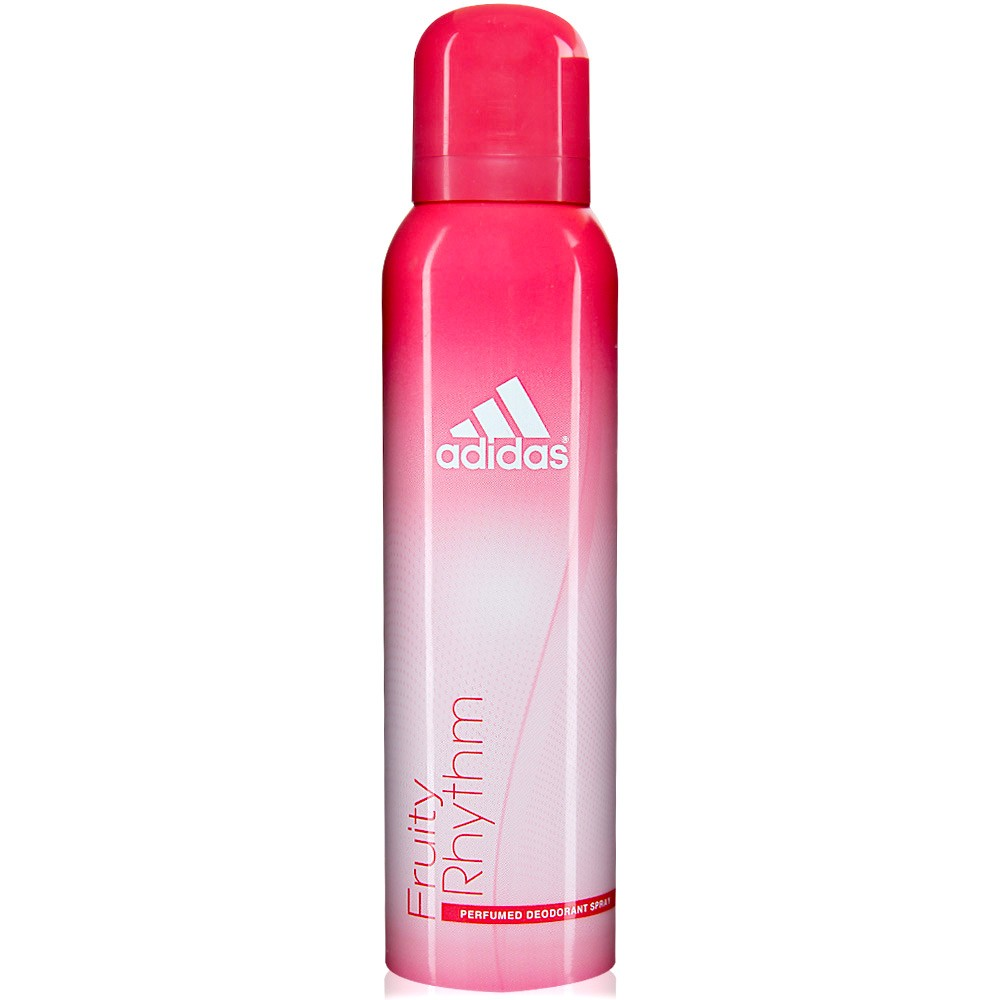Adidas: (432, 372, 573, 474)
